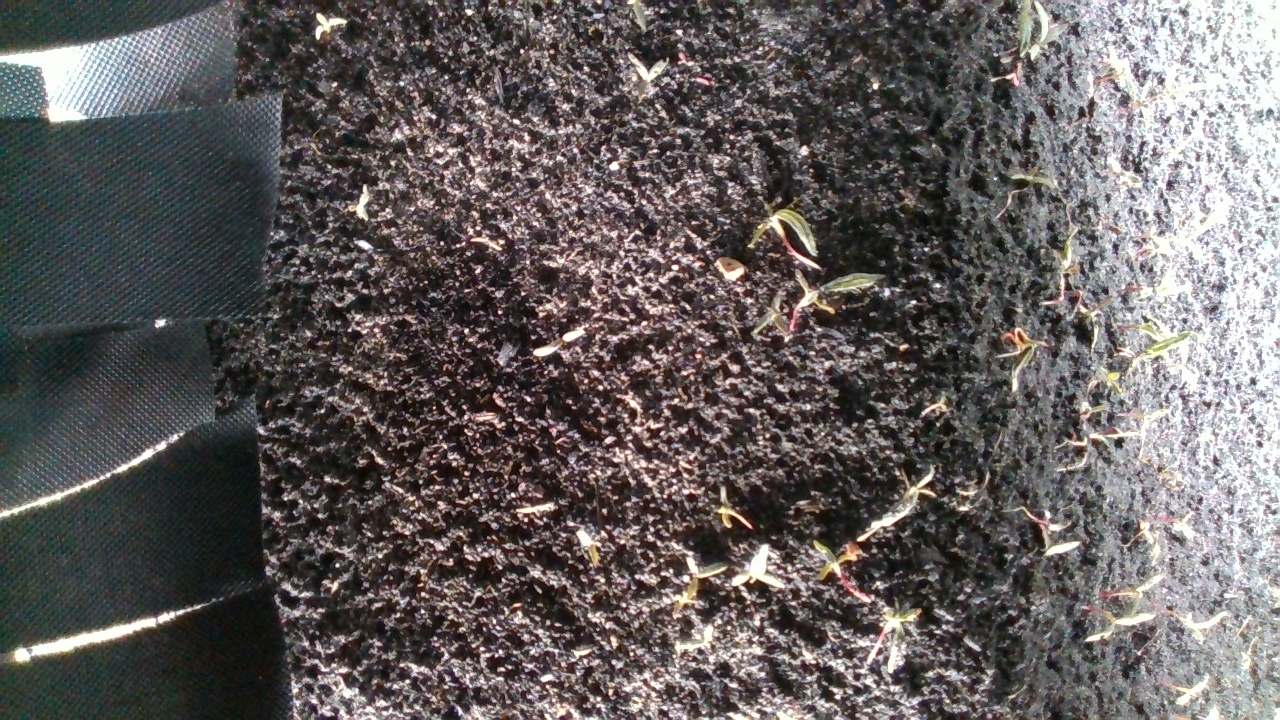weed: (1135, 510, 1191, 565), (305, 10, 346, 48), (616, 51, 653, 90), (344, 194, 380, 233)
